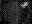person: (22, 1, 28, 10)
